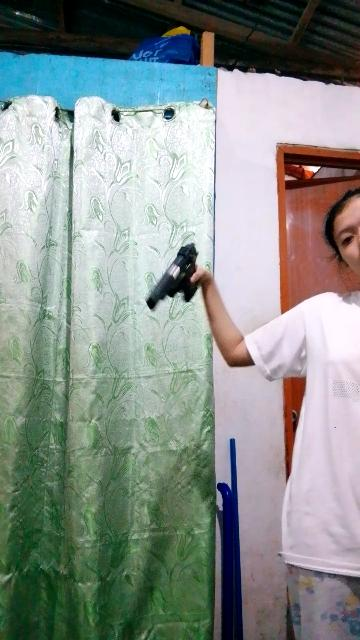pistol: (142, 233, 212, 323)
